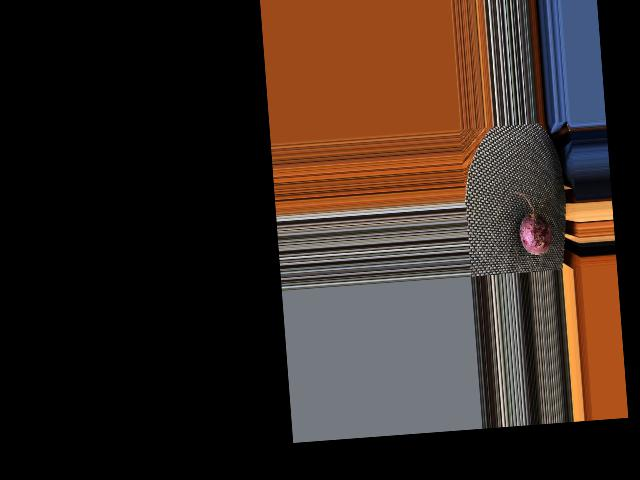beet: (512, 189, 553, 256)
